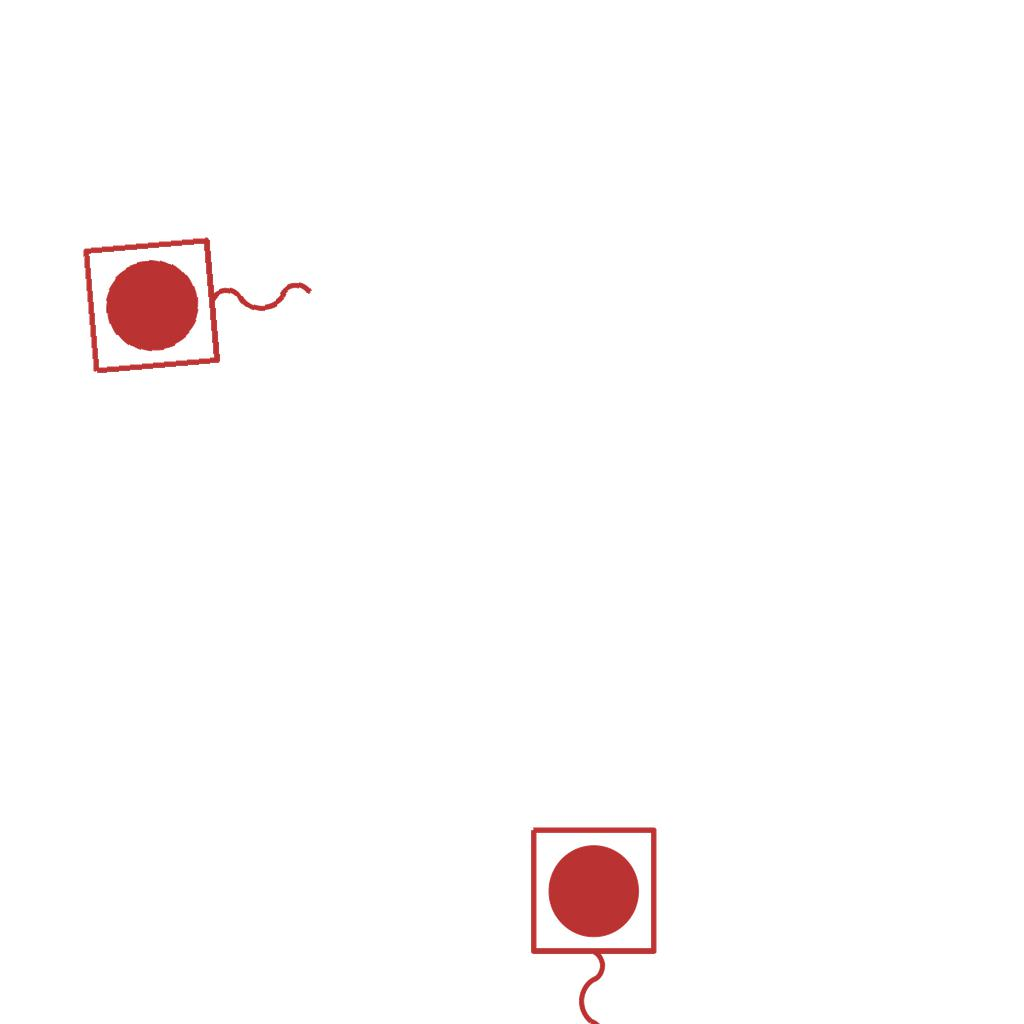Zugtaster: (74, 220, 330, 386), (520, 819, 664, 1024)
